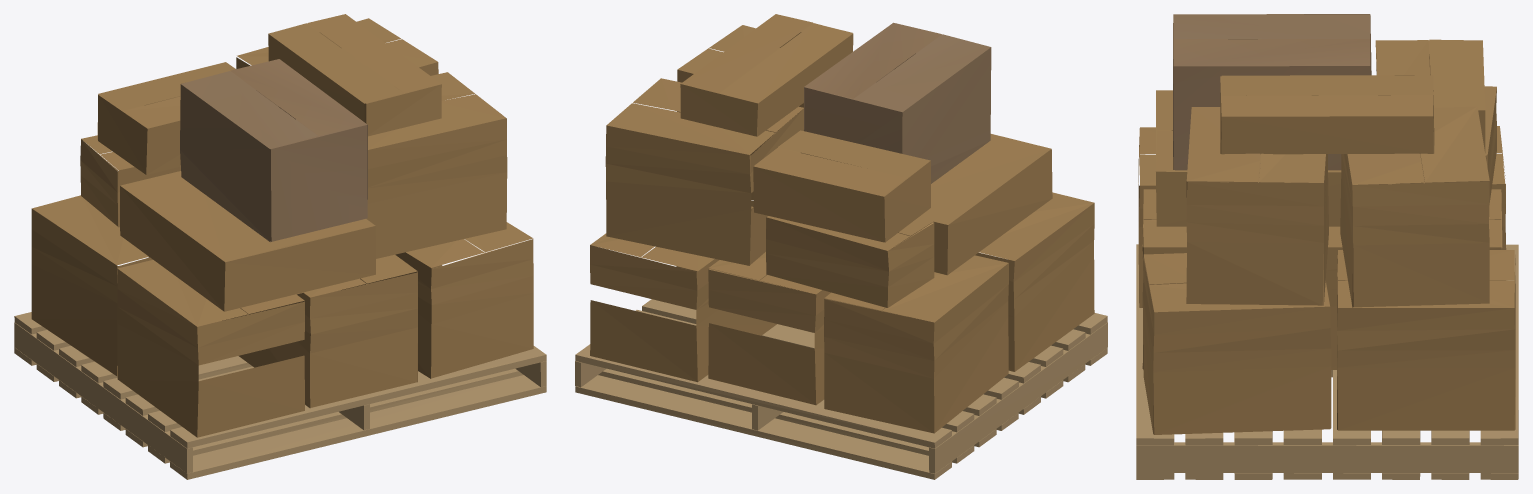
File: pallet-caixas-b.glb
3 renders of one model, left to right at view 1: azimuth 30°, elevation 25°; view 2: azimuth 150°, elevation 25°; view 3: azimuth 270°, elevation 25°, orthographic. The views are drawn at different scales.
Parts seen in each view (by area): view 1: geometry_0; view 2: geometry_0; view 3: geometry_0.
Part boxes in pixels (box(x1,y1,x2,y2)): geometry_0: box(14, 14, 546, 479); geometry_0: box(575, 14, 1107, 479); geometry_0: box(1136, 14, 1518, 479).
Size of the model in its own units: 1.2 by 0.9459 by 0.9988.
